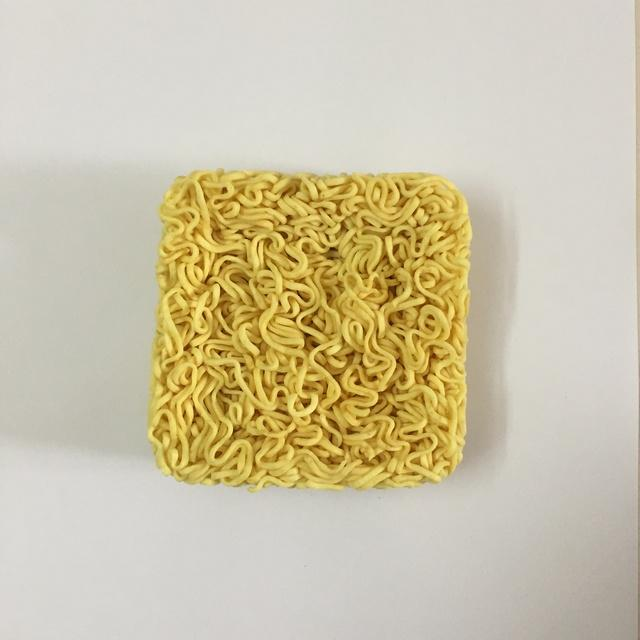noodles: (140, 156, 477, 503)
